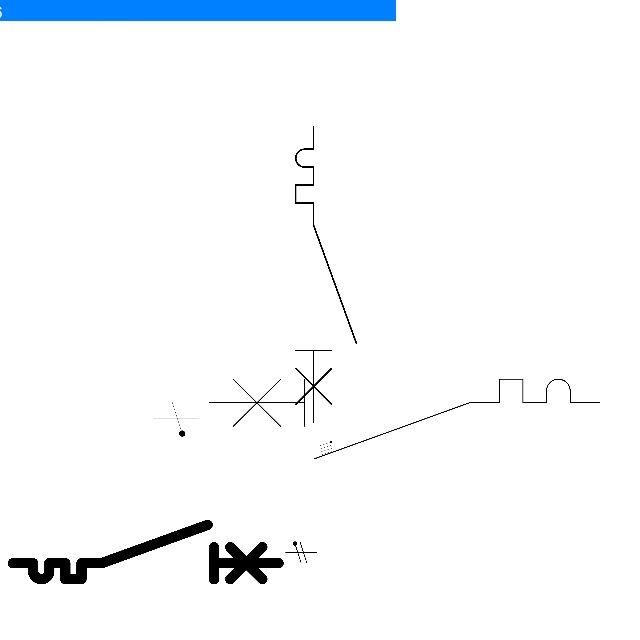interruptor_termomagnetico: (199, 369, 609, 469), (288, 119, 364, 430), (6, 518, 285, 586)
